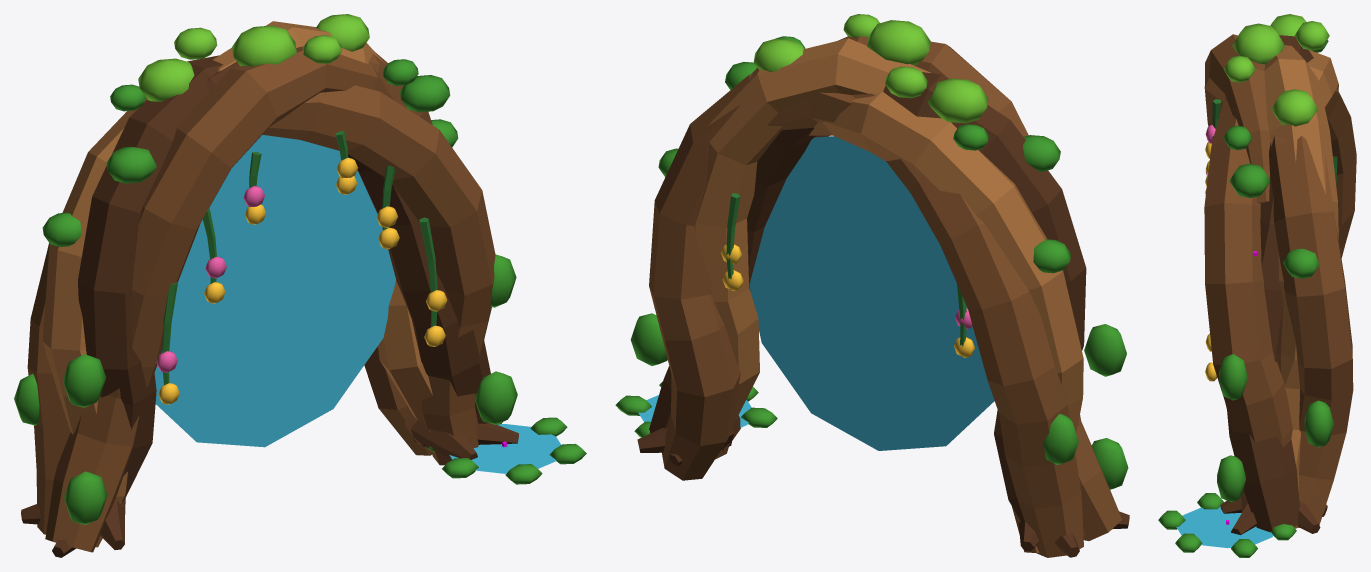
File: PortalWild.fbx
3 renders of one model, left to right at view 1: azimuth 30°, elevation 25°; view 2: azimuth 150°, elevation 25°; view 3: azimuth 270°, elevation 25°, orthographic. The views are drawn at different scales.
Parts seen in each view (by area): view 1: Frame, Opening, Flowers, Pool; view 2: Frame, Opening, Flowers; view 3: Frame, Pool, Flowers.
Boxes of the visible parts, x1,y1,x2,y2 form: Frame: (14, 14, 586, 557); Opening: (154, 135, 395, 447); Flowers: (156, 158, 447, 404); Pool: (449, 424, 560, 473); Frame: (615, 14, 1129, 557); Opening: (749, 136, 994, 450); Flowers: (721, 244, 974, 357); Frame: (1158, 14, 1356, 557); Pool: (1176, 506, 1273, 548); Flowers: (1205, 125, 1217, 381).
Size of the model in its own units: 30.06 by 27.2 by 11.5.
Materials: 1 (1 with a texture image).
